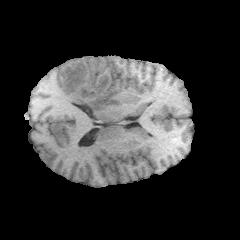glioma: (63, 61, 122, 111)
